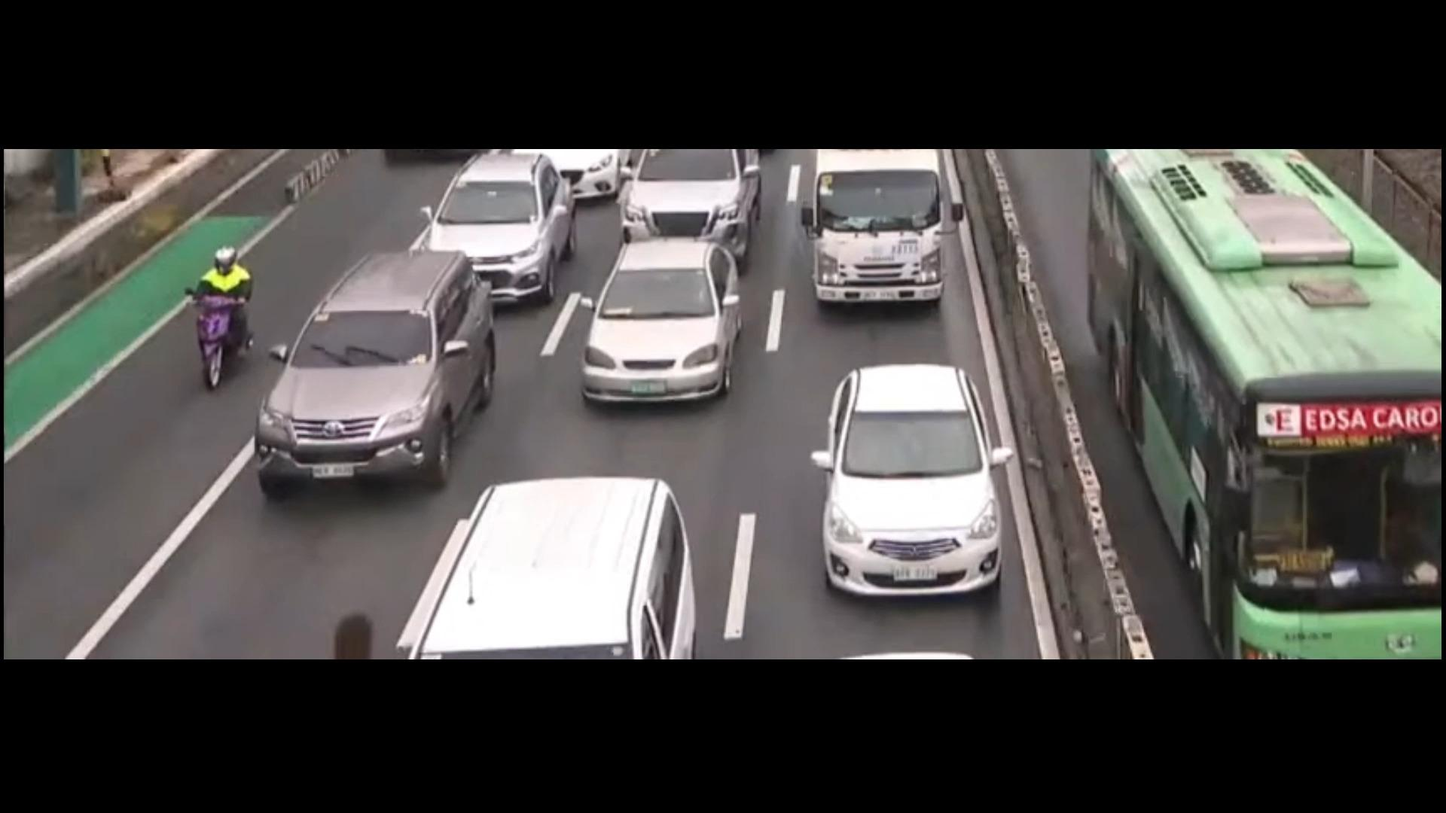Bus: (1075, 151, 1442, 655)
Motorcycle: (194, 239, 256, 391)
SUV: (245, 262, 495, 489), (412, 478, 700, 662), (424, 151, 580, 307), (614, 145, 764, 265)
Sedan: (808, 367, 1026, 604), (567, 245, 732, 405)
Truck: (793, 145, 960, 318)
